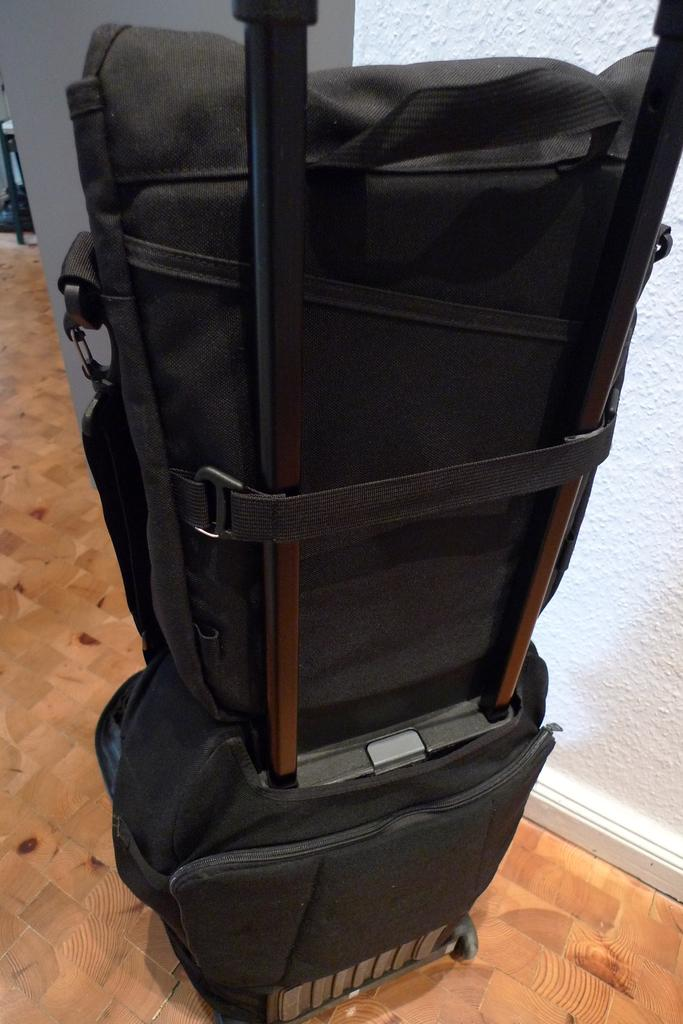Luggage-and-bags: (56, 0, 642, 1006)
